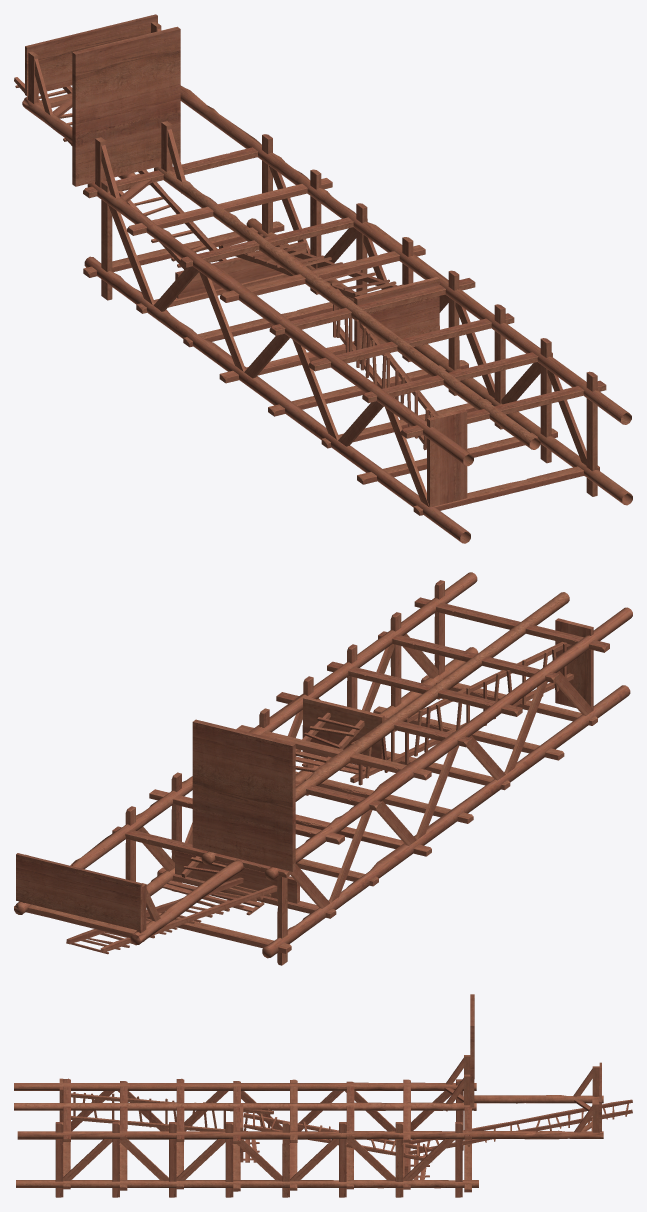
Rendered from stc_ring_under_set.dae.
The picture shows the model from 3 angles, top to bottom: view 1: azimuth 30°, elevation 25°; view 2: azimuth 150°, elevation 25°; view 3: azimuth 270°, elevation 25°; orthographic projection. The views are drawn at different scales.
Visible parts, largest first — view 1: ring_underShape; view 2: ring_underShape; view 3: ring_underShape.
Boxes of the visible parts, x1,y1,x2,y2 form: ring_underShape: (14, 14, 632, 543); ring_underShape: (14, 572, 632, 965); ring_underShape: (14, 994, 632, 1197).
Size of the model in its own units: 54.58 by 230 by 61.
Materials: 1 (1 with a texture image).
